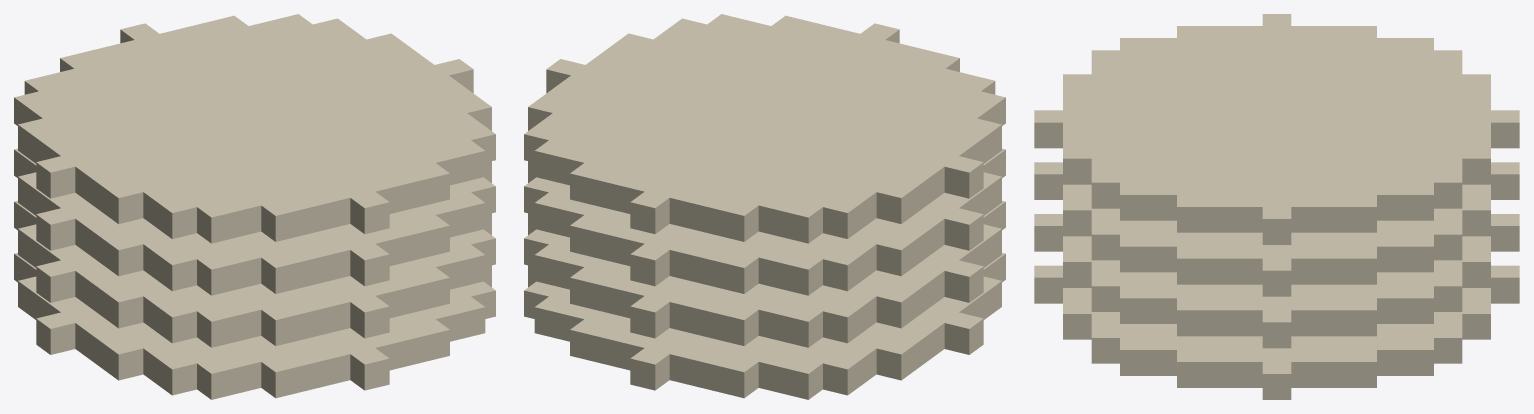
File: hospitality-10.glb
3 views of the same model, side by side, from view 1: azimuth 30°, elevation 25°; view 2: azimuth 150°, elevation 25°; view 3: azimuth 270°, elevation 25° (orthographic).
Parts seen in each view (by area): view 1: Breakfast tray; view 2: Breakfast tray; view 3: Breakfast tray.
Part boxes in pixels (bbox=[...]): Breakfast tray: bbox=[14, 14, 495, 399]; Breakfast tray: bbox=[524, 14, 1005, 399]; Breakfast tray: bbox=[1034, 14, 1519, 399].
Bounding box in the file's own units: 1.36 × 0.56 × 1.36.
